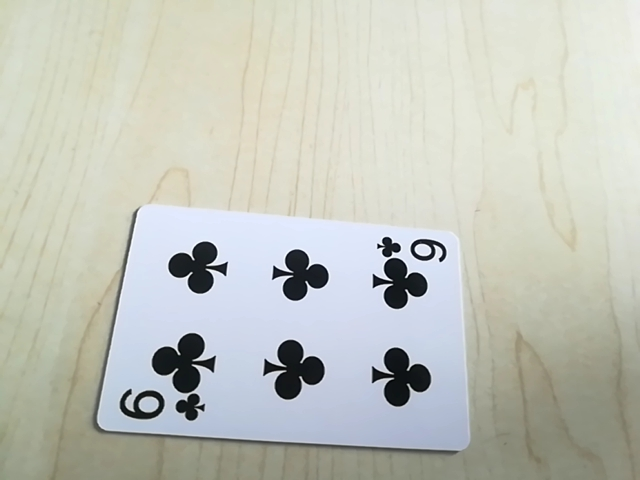mh 6: (111, 387, 209, 428), (374, 230, 447, 262)
